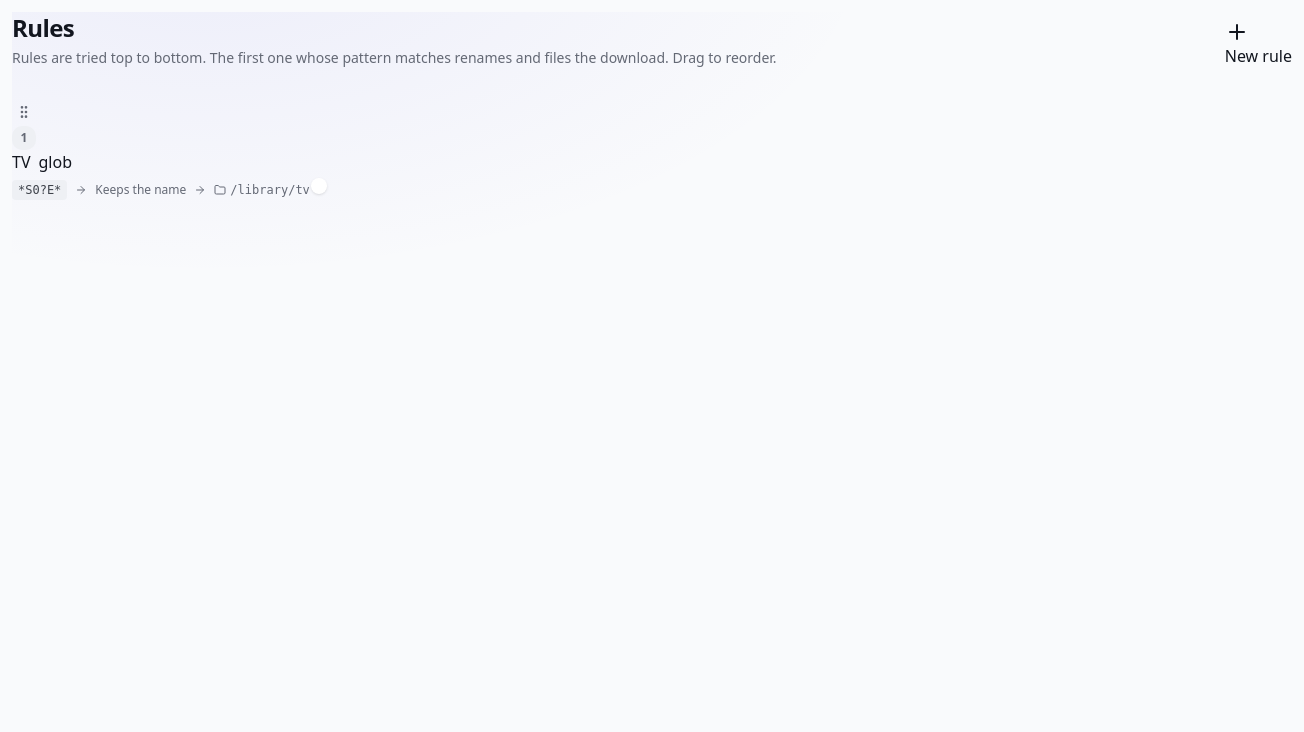
it: RulesPage › turns on a disabled rule
Expected: the element with test id "signed-in" is shown, [12,12,1292,200]
Click the switch named "Enable TV": (318, 186) [310,178,326,194]
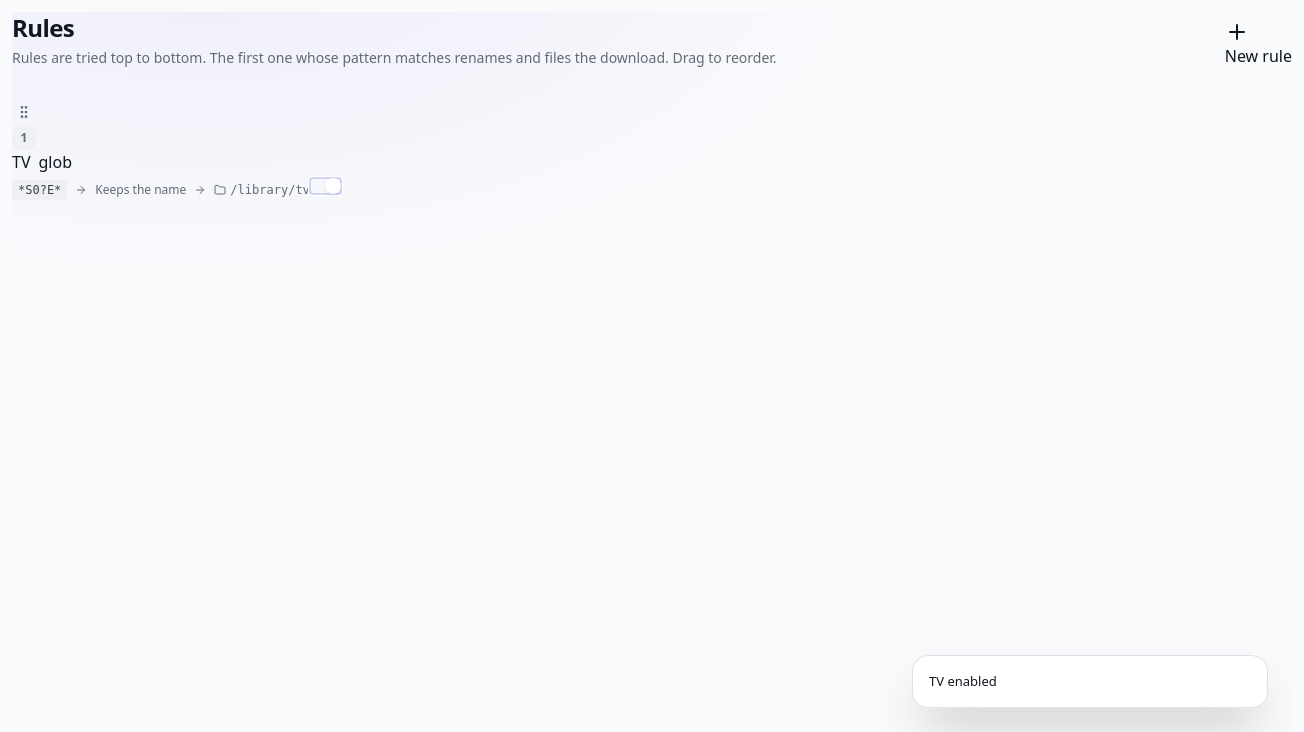
Now the text "TV enabled" is shown, box [929,672,997,691]
